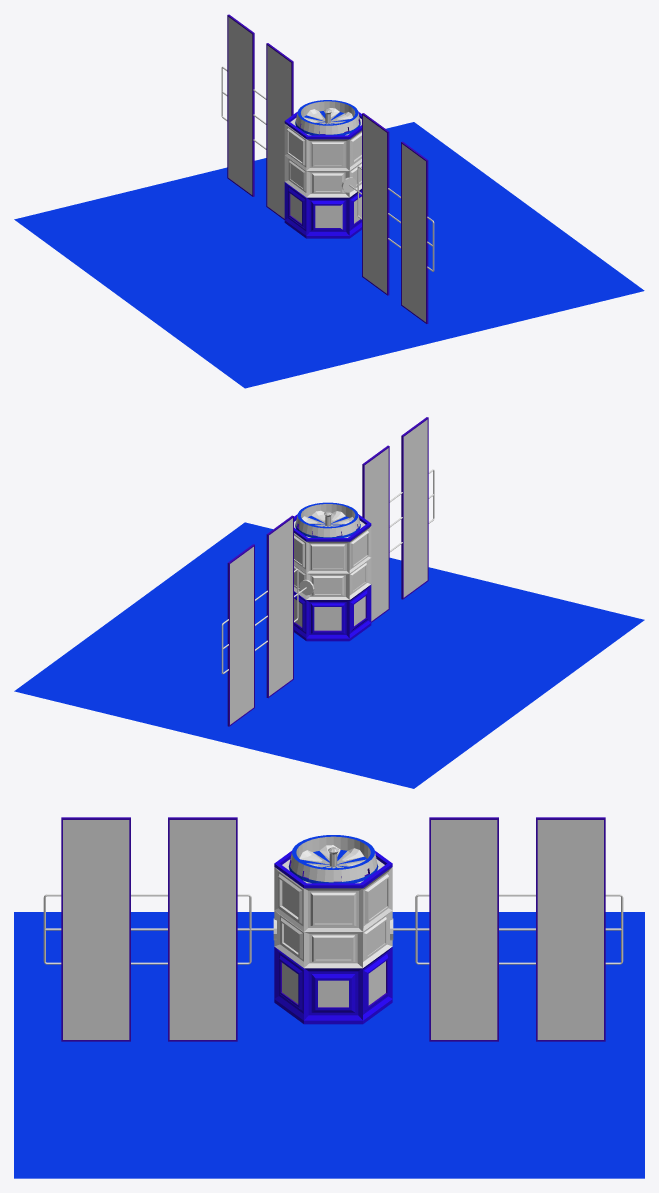
File: satellite_1_2_blue.fbx
3 renders of one model, top to bottom at view 1: azimuth 30°, elevation 25°; view 2: azimuth 150°, elevation 25°; view 3: azimuth 270°, elevation 25°, orthographic. The views are drawn at different scales.
Parts seen in each view (by area): view 1: Plane, pCube7, Cylinder.020, Cylinder.021; view 2: Plane, pCube7, Cylinder.020, Cylinder.021; view 3: Plane, pCube7, Cylinder.020, Cylinder.021.
Part boxes in pixels (<box>): Plane: <box>14,122,644,388</box>; pCube7: <box>221,14,434,323</box>; Cylinder.020: <box>284,111,361,238</box>; Cylinder.021: <box>295,100,360,135</box>; Plane: <box>14,522,644,788</box>; pCube7: <box>221,417,434,726</box>; Cylinder.020: <box>294,514,371,641</box>; Cylinder.021: <box>295,502,360,537</box>; Plane: <box>14,912,644,1178</box>; pCube7: <box>43,817,623,1041</box>; Cylinder.020: <box>274,850,392,1024</box>; Cylinder.021: <box>288,835,378,883</box>.
Bounding box in the file's own units: 1000 × 398 × 1000.
